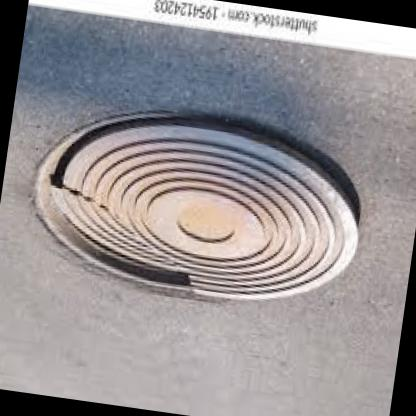manholes: (2, 56, 388, 369)
